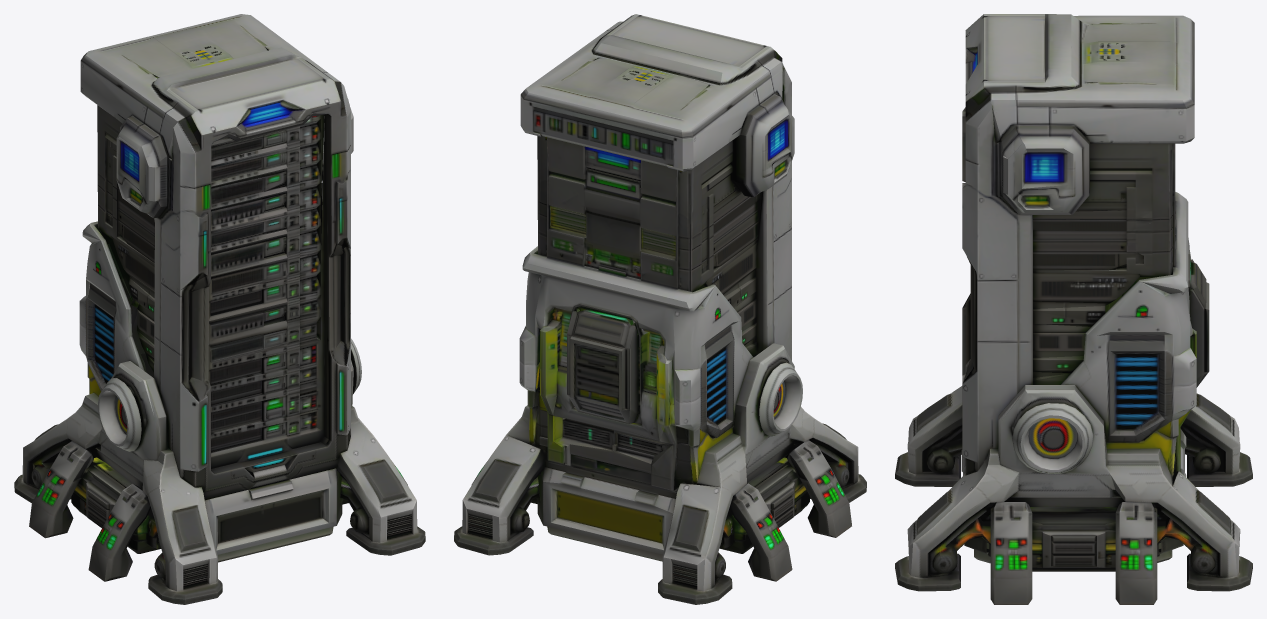
File: SF_Server_Mesh.fbx
3 views of the same model, side by side, from view 1: azimuth 30°, elevation 25°; view 2: azimuth 150°, elevation 25°; view 3: azimuth 270°, elevation 25° (orthographic). The views are drawn at different scales.
Parts seen in each view (by area): view 1: world; view 2: world; view 3: world.
Boxes of the visible parts, x1,y1,x2,y2 form: world: (14, 14, 425, 604); world: (454, 14, 866, 604); world: (895, 14, 1252, 604).
Size of the model in its own units: 70.23 by 100 by 67.36.
